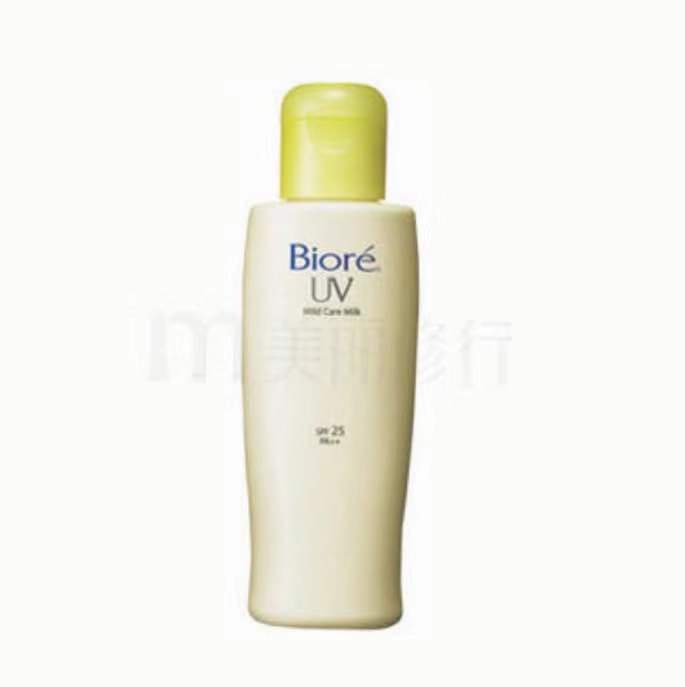cosmetic: (242, 78, 418, 629)
